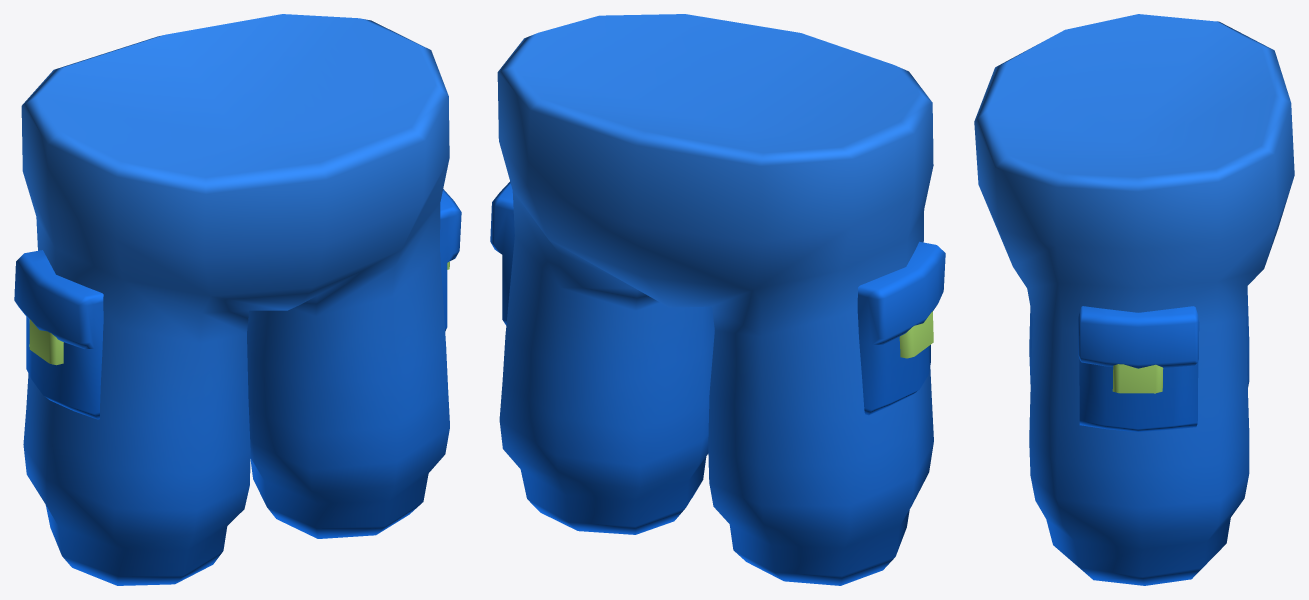
Rendered from Bottom_22.fbx.
3 renders of one model, left to right at view 1: azimuth 30°, elevation 25°; view 2: azimuth 150°, elevation 25°; view 3: azimuth 270°, elevation 25°, orthographic. The views are drawn at different scales.
Visible parts, largest first — view 1: Bottom_22; view 2: Bottom_22; view 3: Bottom_22.
Boxes of the visible parts, x1,y1,x2,y2 form: Bottom_22: (14, 14, 461, 585); Bottom_22: (490, 14, 945, 585); Bottom_22: (974, 14, 1294, 585).
Bounding box in the file's own units: 40.9 × 42.8 × 29.68.
